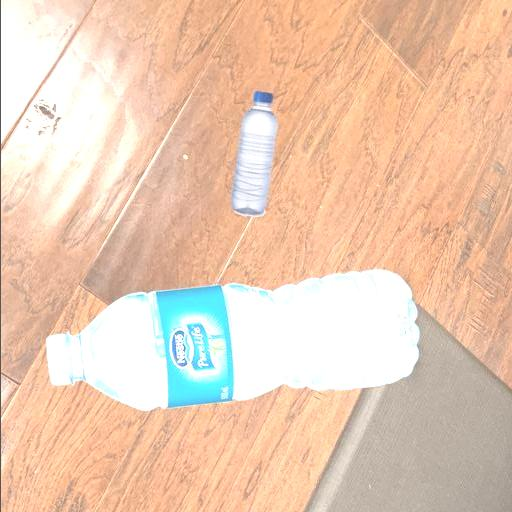bottle: (32, 262, 444, 418), (214, 90, 306, 222)
